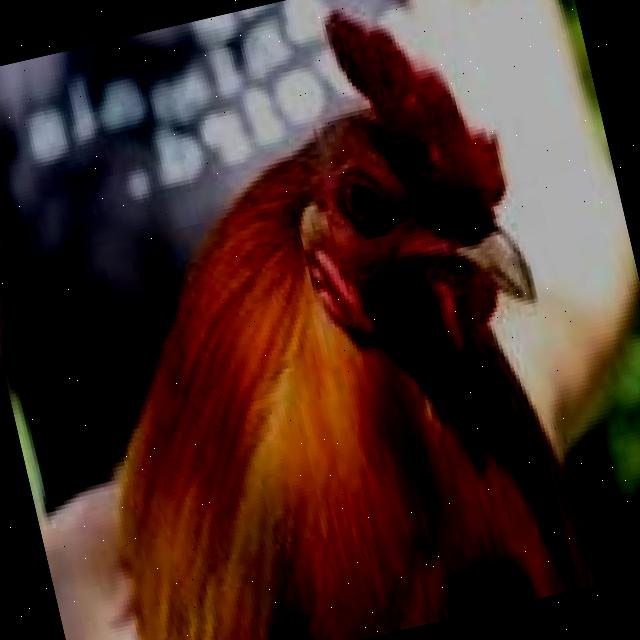Healthy: (0, 0, 609, 640)
